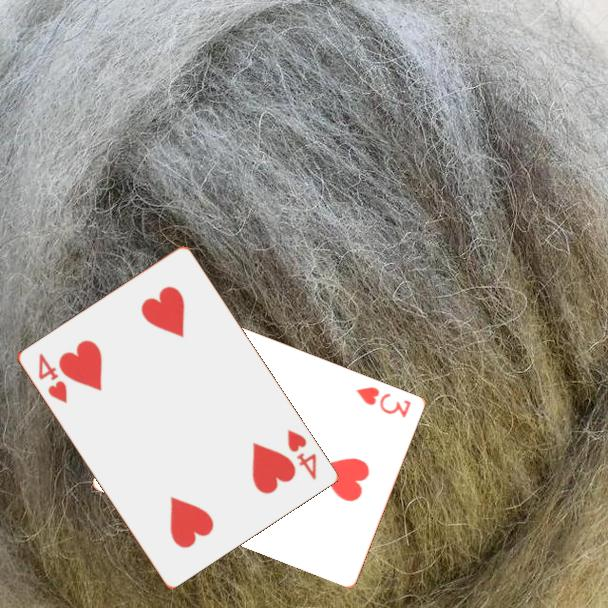h03: (353, 383, 414, 421)
h04: (283, 425, 319, 483), (34, 349, 70, 406)
